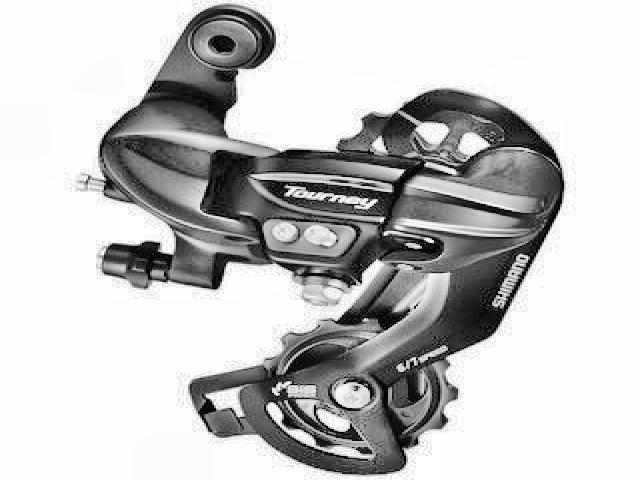rear_derailleur: (81, 6, 568, 472)
